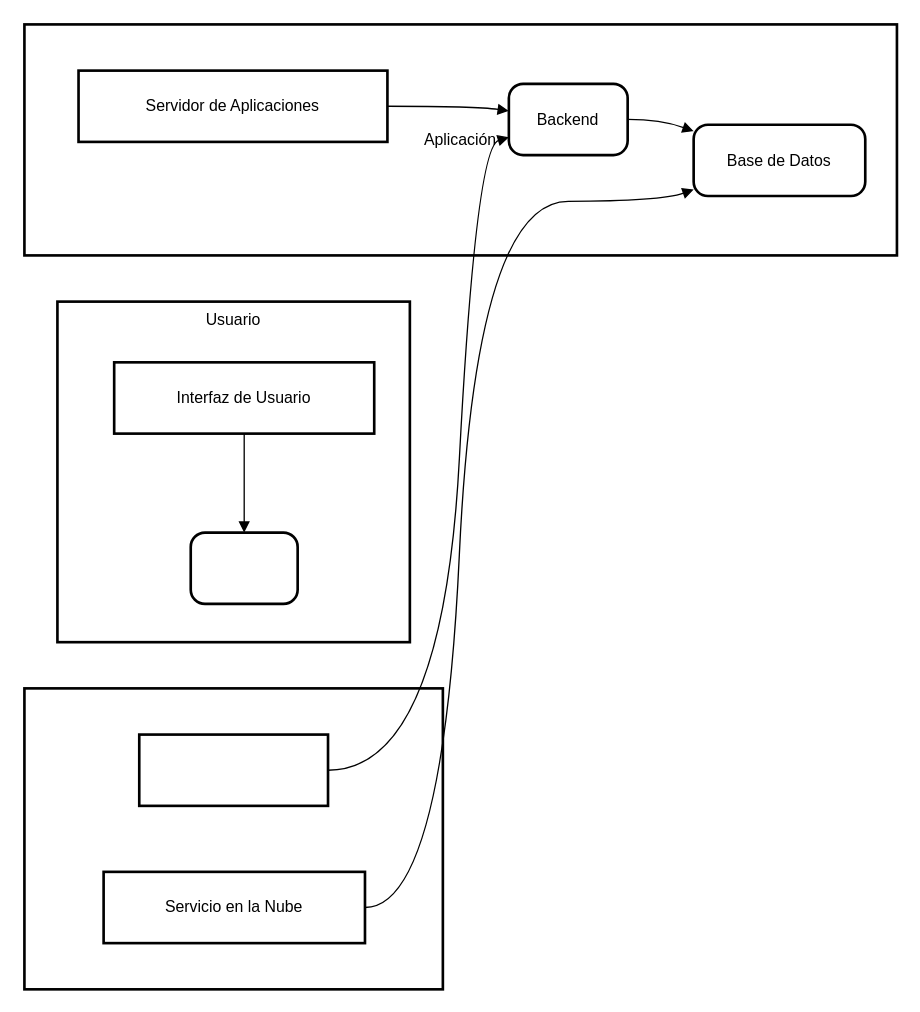
This 920x1012 diagram has some shape labels left out. The shapes that lost their labels are listed below. From the top down, each one's box as (x1, y1, x2, y2) in pixels, then its label:
(189, 531, 298, 605): Cliente
(137, 733, 329, 807): API Externa
(22, 686, 444, 990): Recursos Externos
